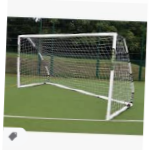goals: (13, 31, 136, 121)
